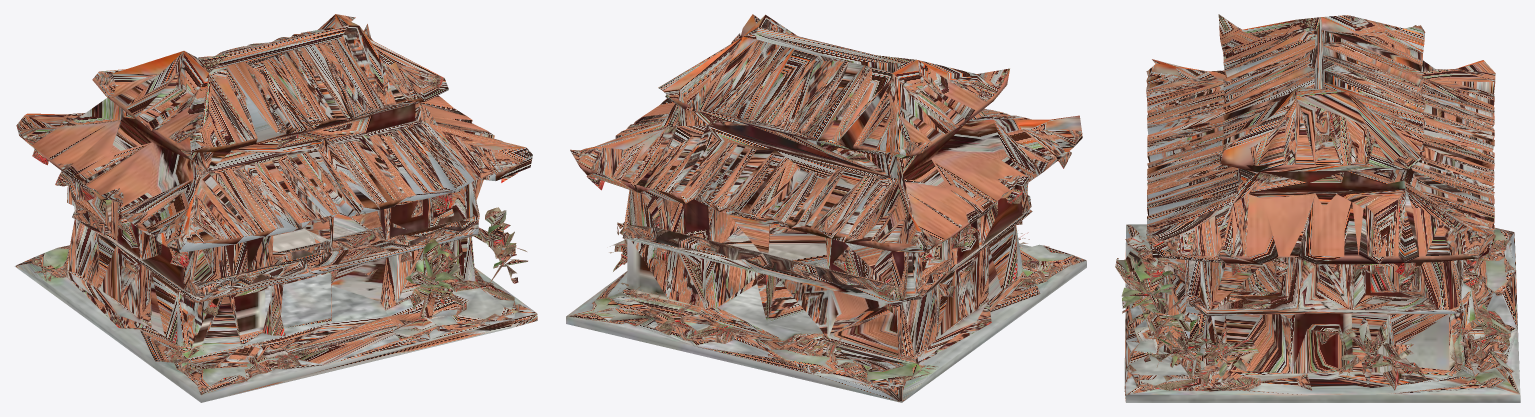
File: bq_yamen.lod1.glb
The picture shows the model from 3 angles, left to right: view 1: azimuth 30°, elevation 25°; view 2: azimuth 150°, elevation 25°; view 3: azimuth 270°, elevation 25°; orthographic projection. The views are drawn at different scales.
Bounding box in the file's own units: 1.89 × 1.25 × 1.72.
1 material, 1 textured.
